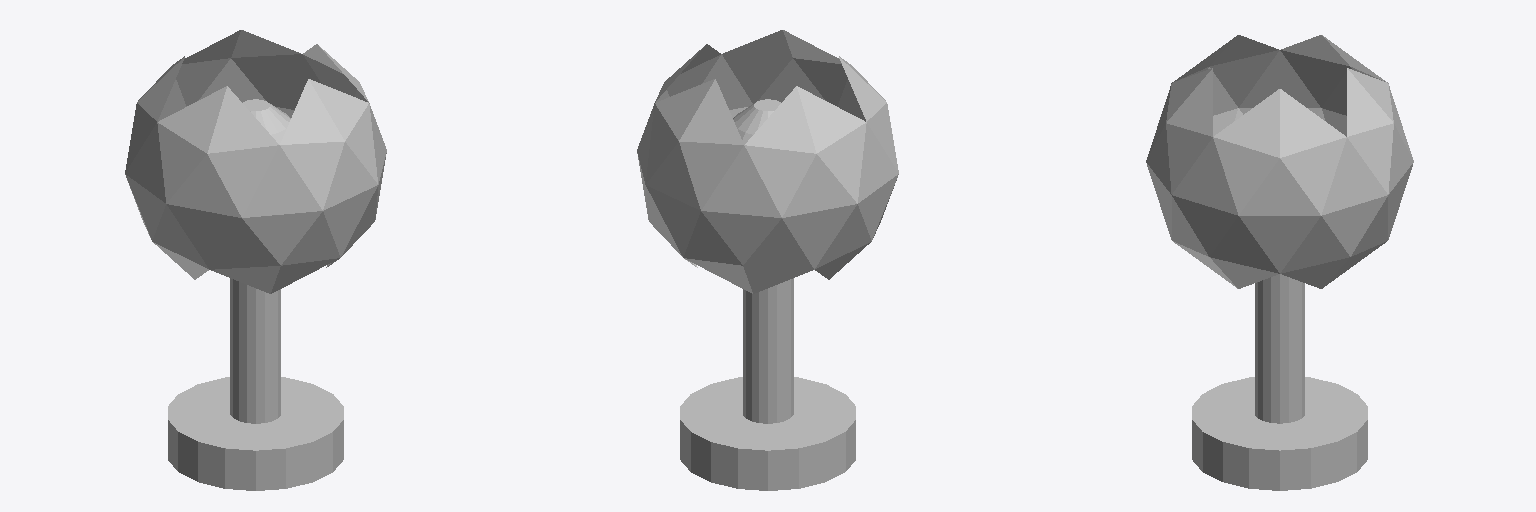
File: Table Lamp.obj
3 views of the same model, side by side, from view 1: azimuth 30°, elevation 25°; view 2: azimuth 150°, elevation 25°; view 3: azimuth 270°, elevation 25° (orthographic).
Parts seen in each view (by area): view 1: Lamp; view 2: Lamp; view 3: Lamp.
Boxes of the visible parts, x1=… form: Lamp: x1=125, y1=30, x2=386, y2=490; Lamp: x1=637, y1=30, x2=898, y2=490; Lamp: x1=1146, y1=35, x2=1413, y2=490.
Bounding box in the file's own units: 11.23 × 19.2 × 11.81.